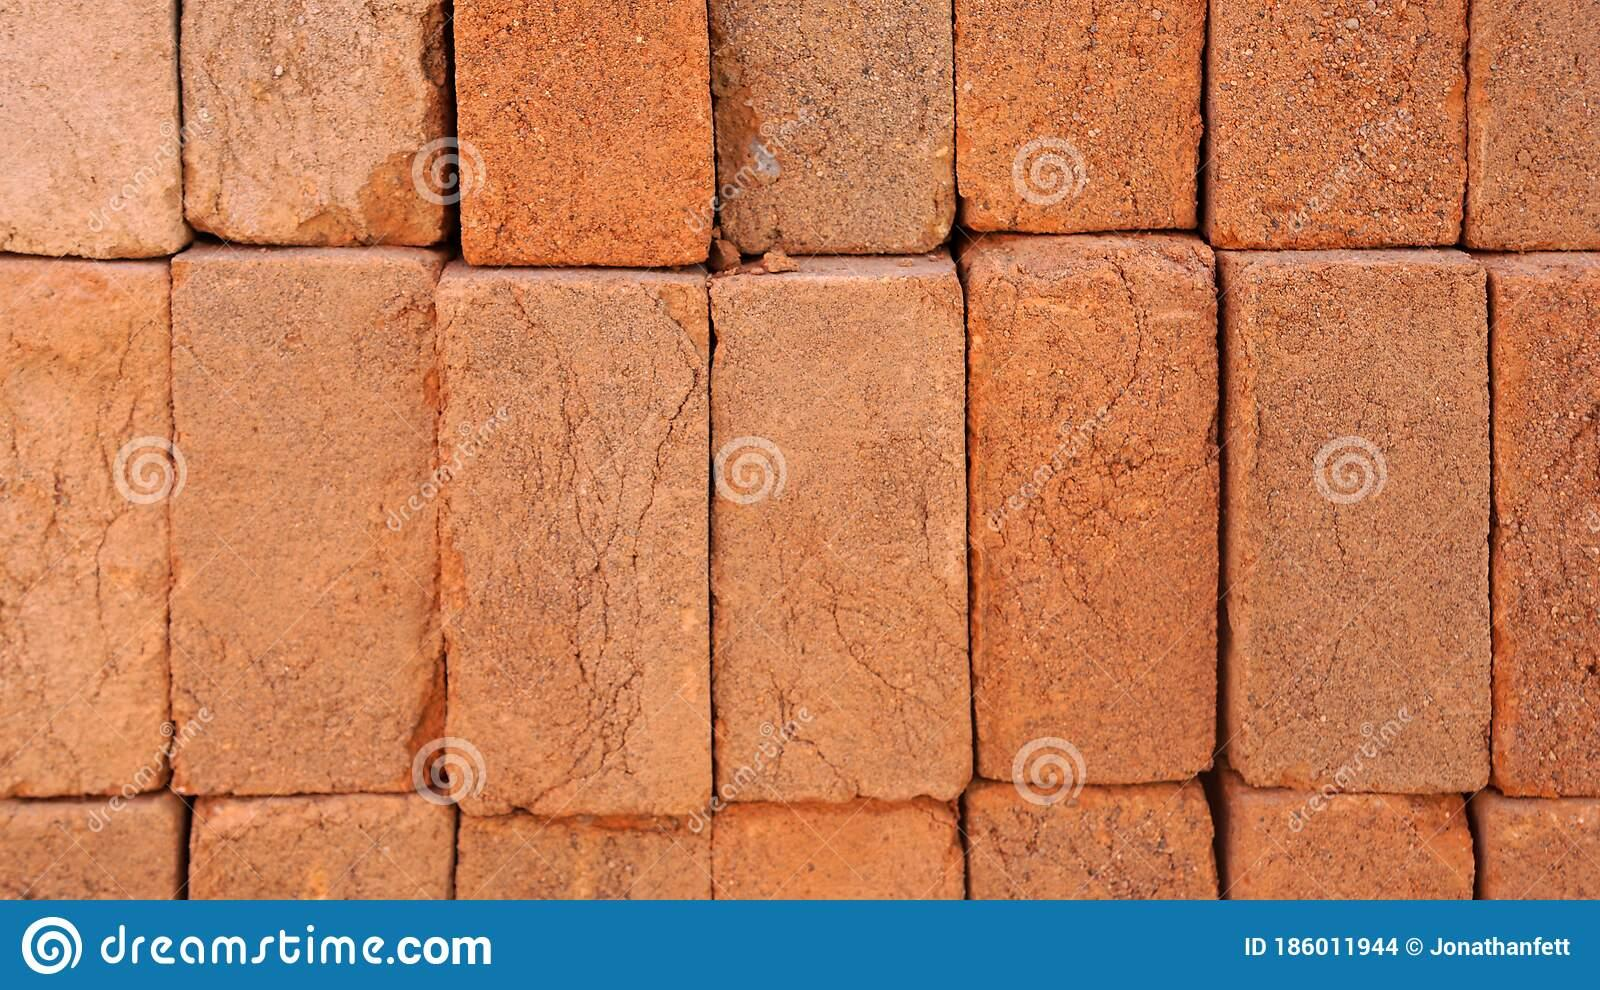brick: (439, 278, 711, 816), (173, 254, 439, 792), (714, 272, 970, 800), (967, 250, 1216, 782), (1247, 266, 1486, 788), (1, 260, 167, 796), (457, 0, 714, 266), (178, 0, 445, 246), (1213, 2, 1466, 248), (719, 0, 952, 254), (957, 0, 1205, 227), (0, 0, 185, 254)
